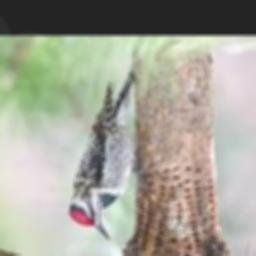Woodpecker: (70, 68, 138, 242)
